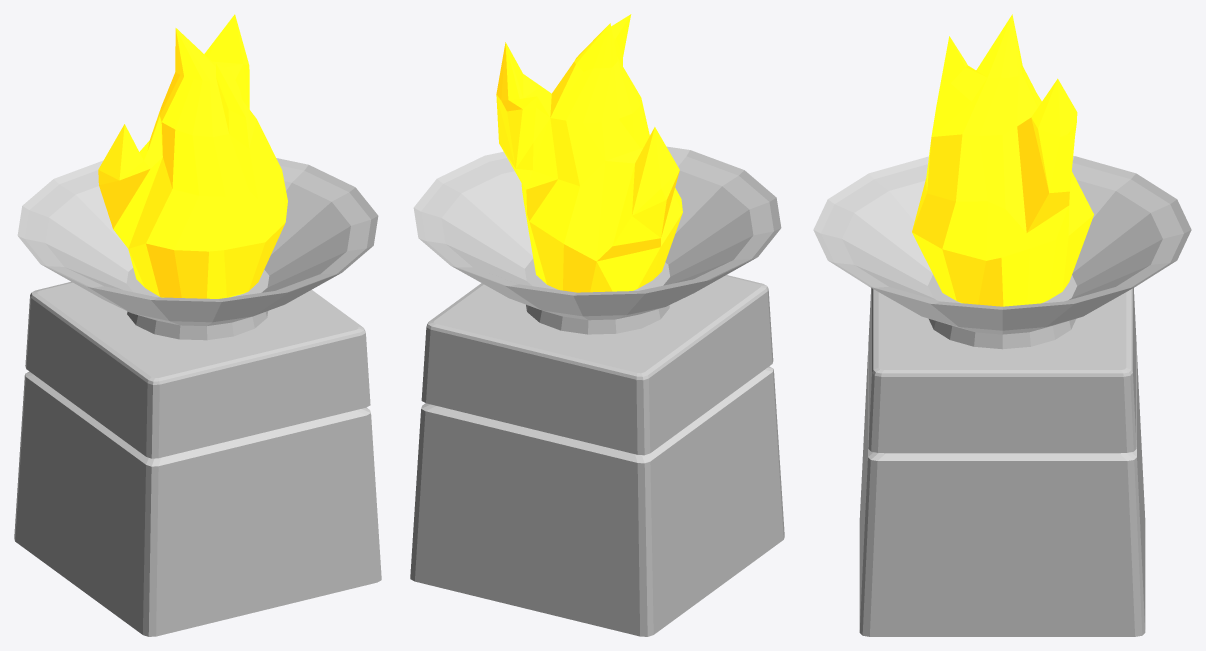
File: StoneChalice001.fbx
3 renders of one model, left to right at view 1: azimuth 30°, elevation 25°; view 2: azimuth 150°, elevation 25°; view 3: azimuth 270°, elevation 25°, orthographic. The views are drawn at different scales.
Parts seen in each view (by area): view 1: Stone Fire Chalice Variation 001; view 2: Stone Fire Chalice Variation 001; view 3: Stone Fire Chalice Variation 001.
Boxes of the visible parts, box(x1,y1,x2,y2) form: Stone Fire Chalice Variation 001: box(14, 14, 381, 636); Stone Fire Chalice Variation 001: box(410, 14, 784, 636); Stone Fire Chalice Variation 001: box(813, 14, 1191, 636).
Bounding box in the file's own units: 1.99 × 3.21 × 1.99.
